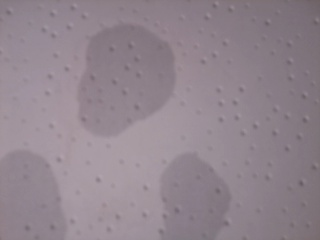Water_detected: (78, 34, 161, 125), (1, 156, 60, 240), (162, 164, 209, 234)
